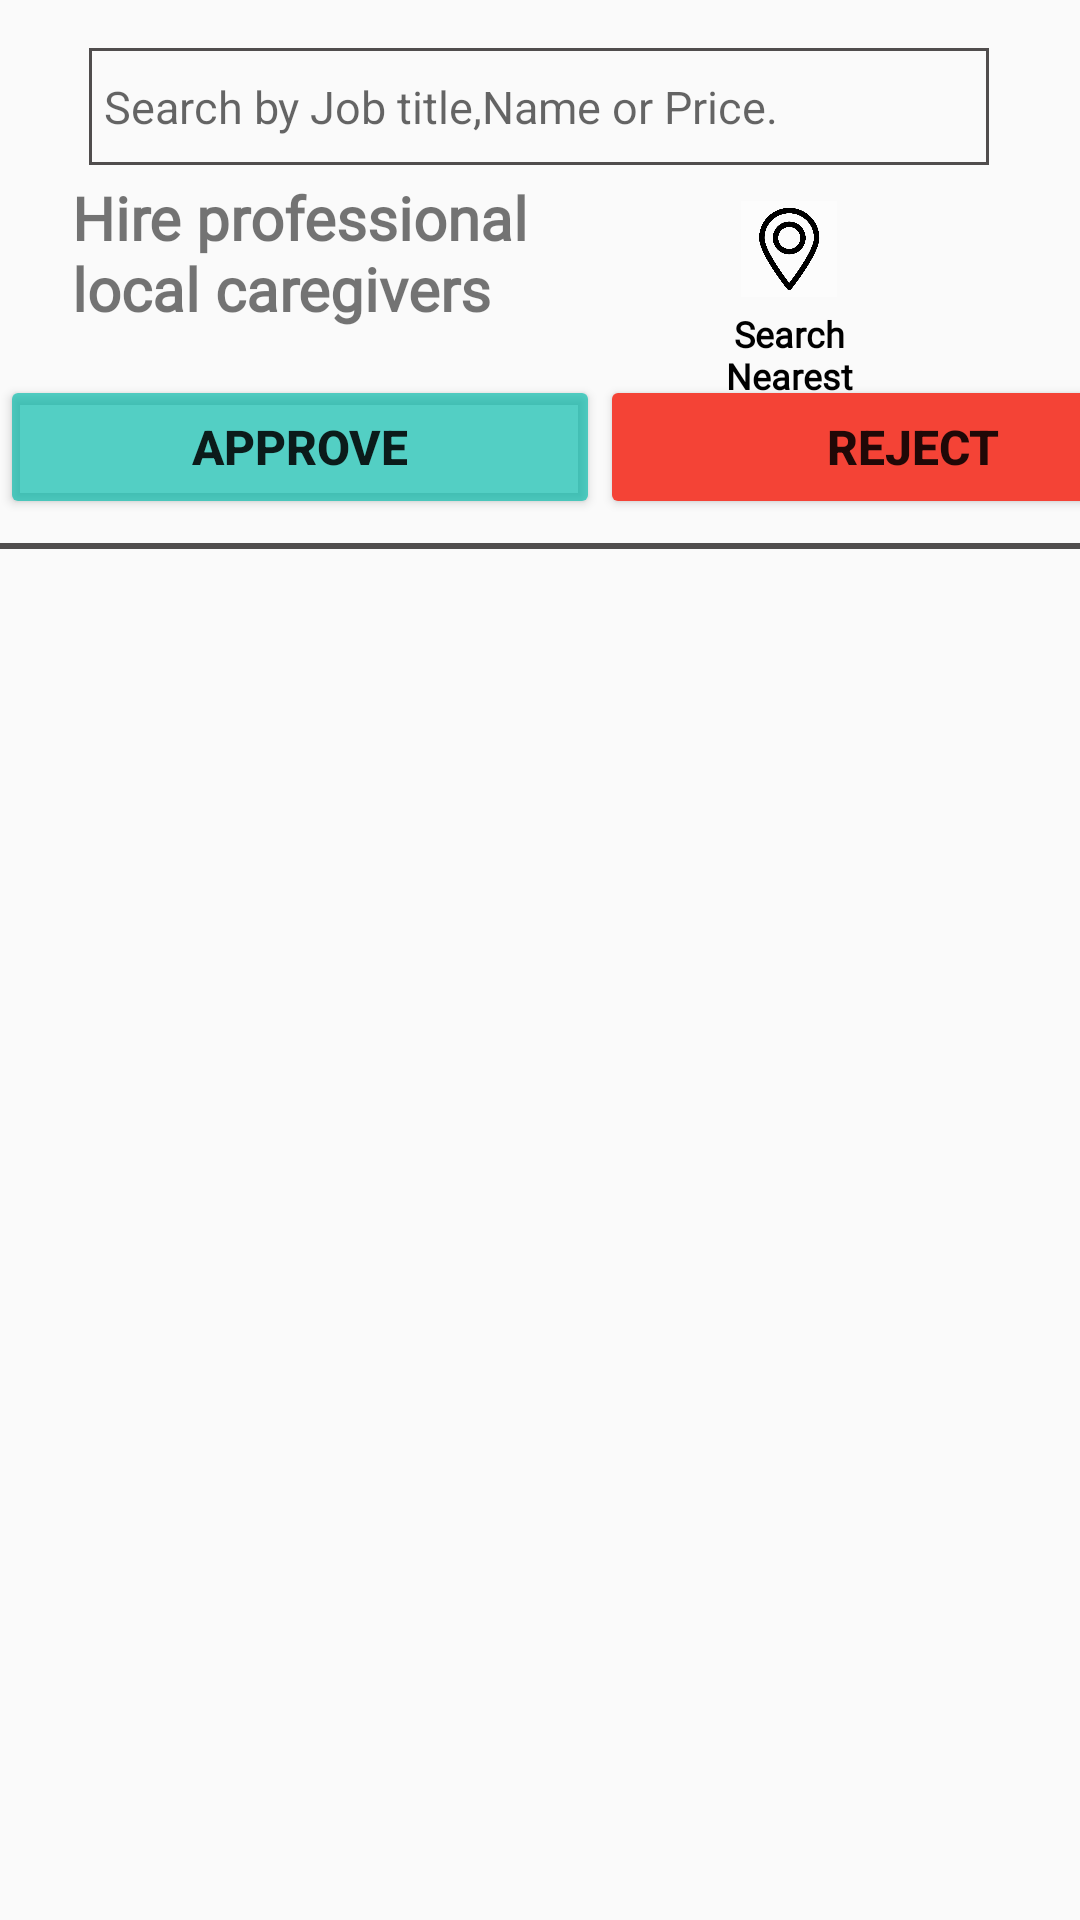

Icon click points for this 1080×1920 phone screenshot, format (x,y):
location: (789,249)
